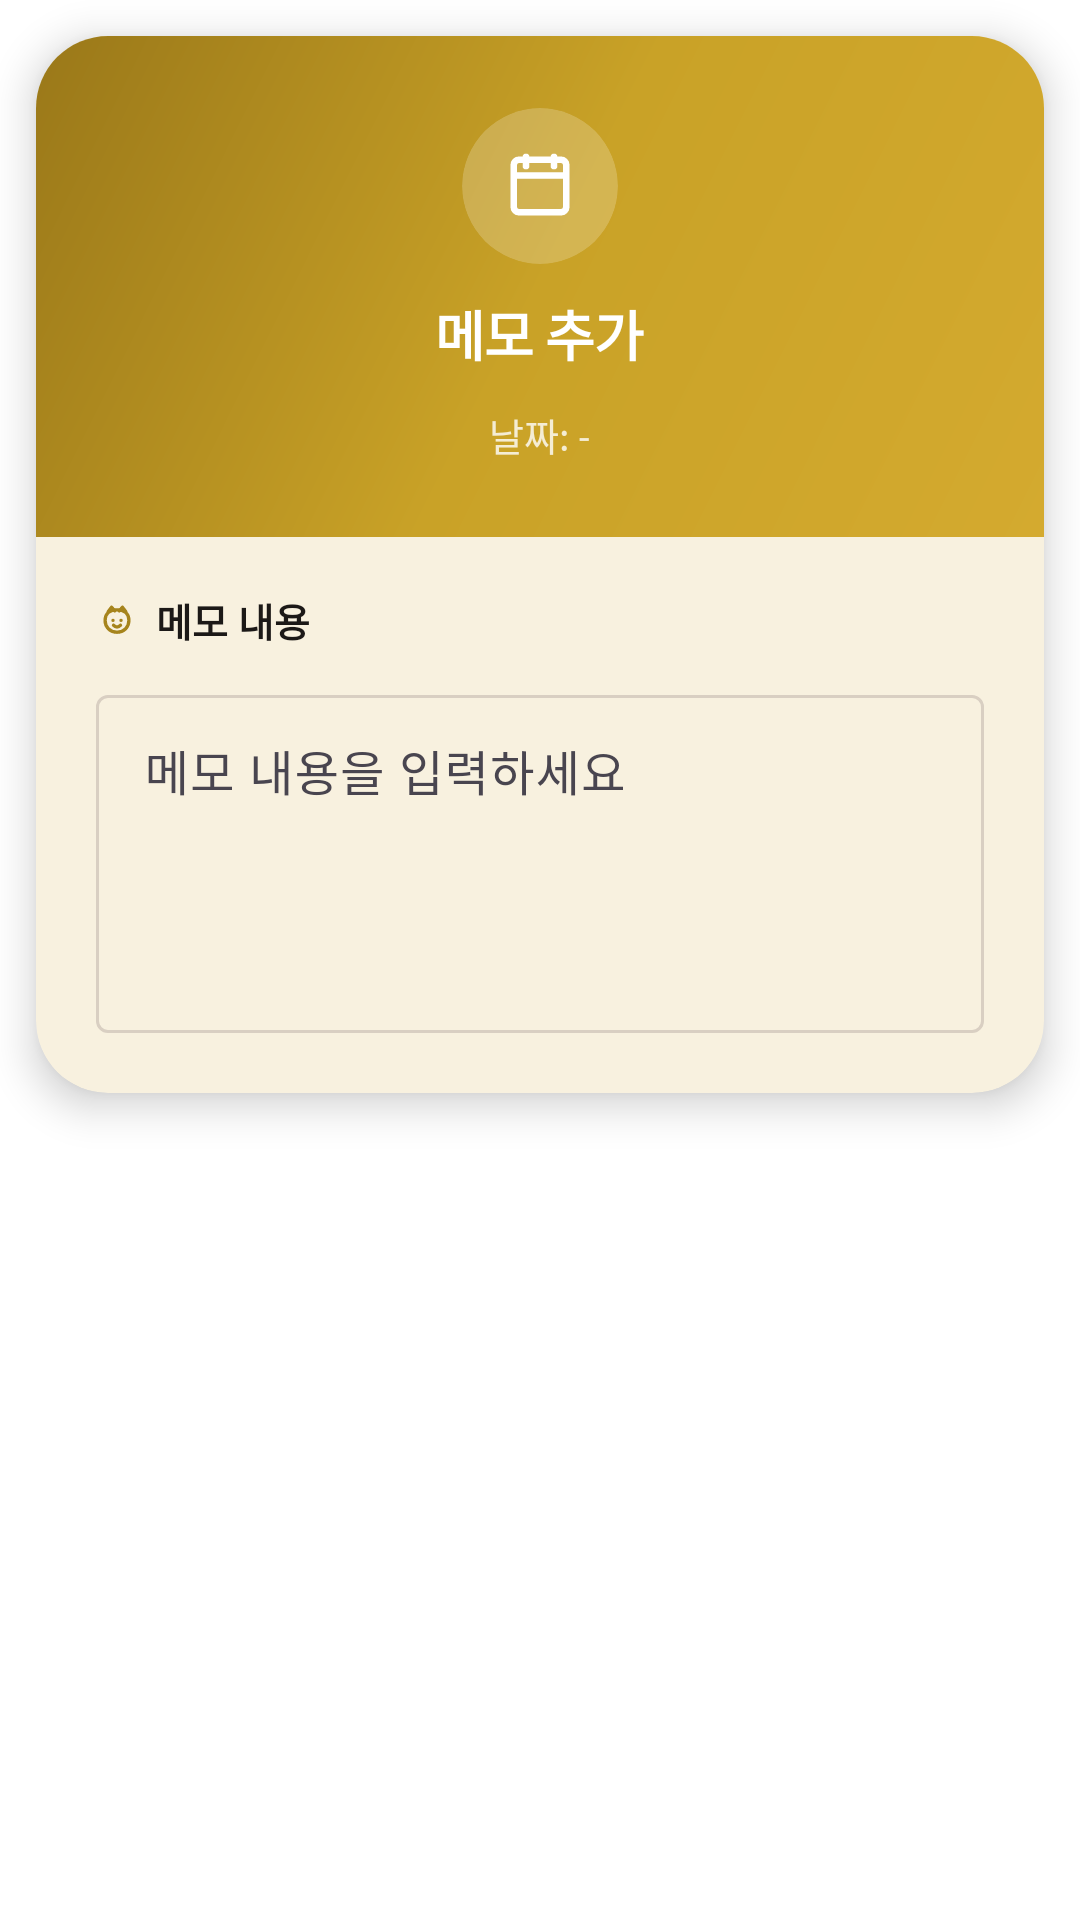

Named icons in this screenshot (1080×1920) and their bounding boxes, [x1=x1, y1=y1, x2=x2, y2=y2]:
calendar: [x1=462, y1=108, x2=618, y2=264]
cat: [x1=103, y1=605, x2=131, y2=634]
